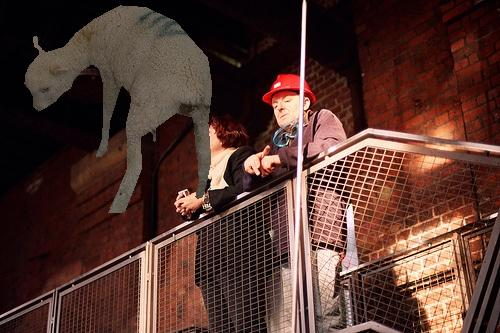tampered: (25, 6, 212, 213)
